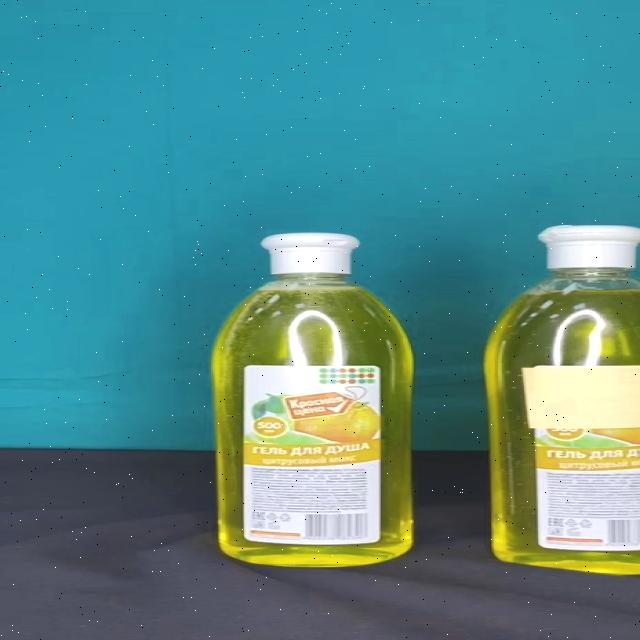Bottle: (210, 233, 416, 568), (483, 225, 640, 576)
Cap: (536, 225, 640, 269), (260, 233, 360, 274)
